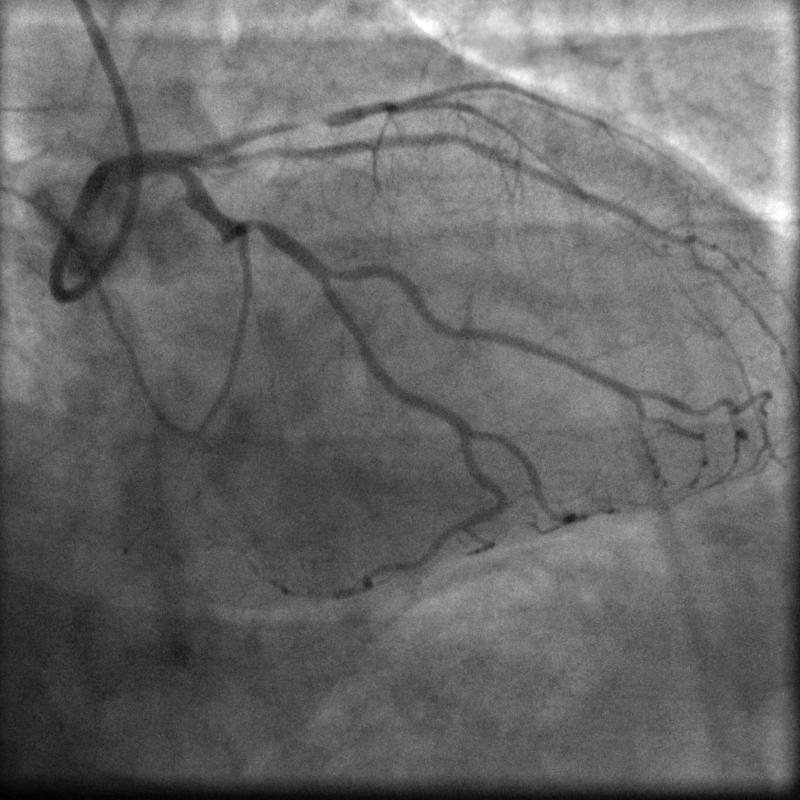Stenosis: (243, 215, 267, 236)
